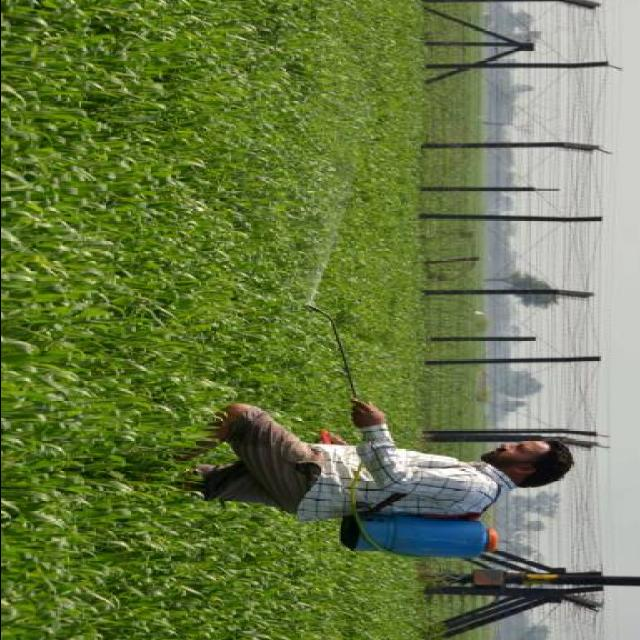civilian: (193, 398, 573, 519)
